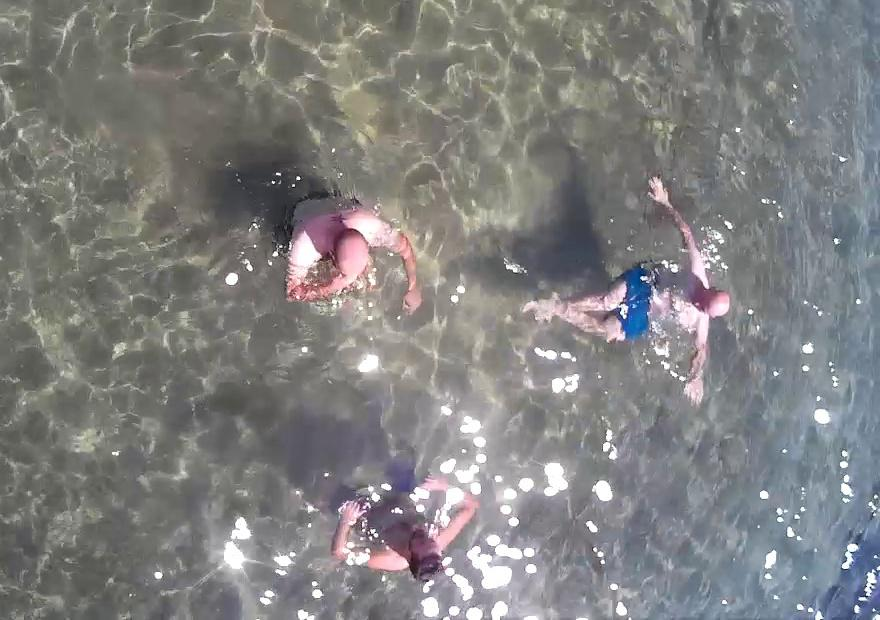human: (528, 154, 726, 416), (266, 155, 432, 338), (314, 444, 491, 578)
